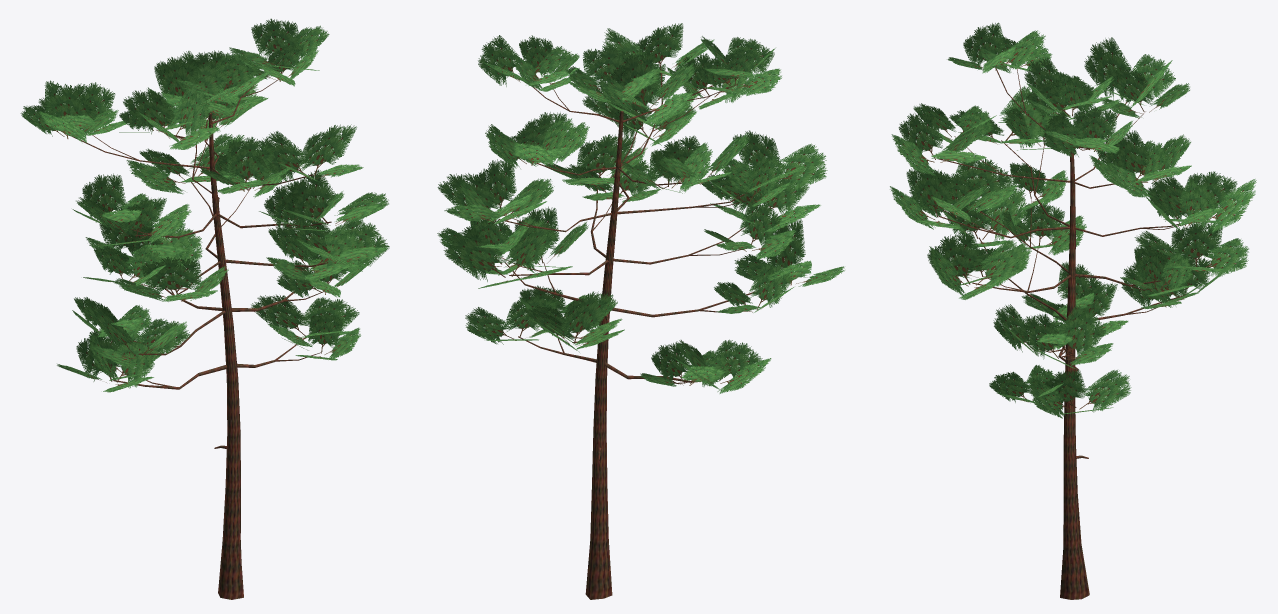
File: pine_dalat_medium_lod1.glb
3 views of the same model, side by side, from view 1: azimuth 30°, elevation 25°; view 2: azimuth 150°, elevation 25°; view 3: azimuth 270°, elevation 25° (orthographic). The views are drawn at different scales.
Parts seen in each view (by area): view 1: pine_dalat_medium_lod1; view 2: pine_dalat_medium_lod1; view 3: pine_dalat_medium_lod1.
Part boxes in pixels (left/top/right/bottom): pine_dalat_medium_lod1: left=20, top=18, right=389, bottom=599; pine_dalat_medium_lod1: left=437, top=23, right=844, bottom=599; pine_dalat_medium_lod1: left=890, top=22, right=1256, bottom=599.
Bounding box in the file's own units: 12.1 × 18.58 × 12.35.
2 materials, 2 textured.
